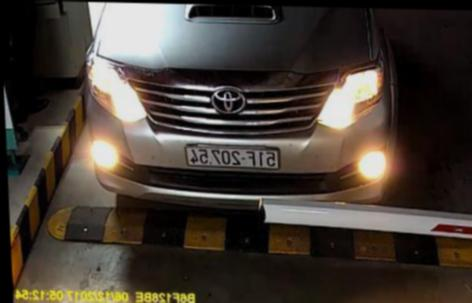License_Plate: (183, 143, 279, 173)
